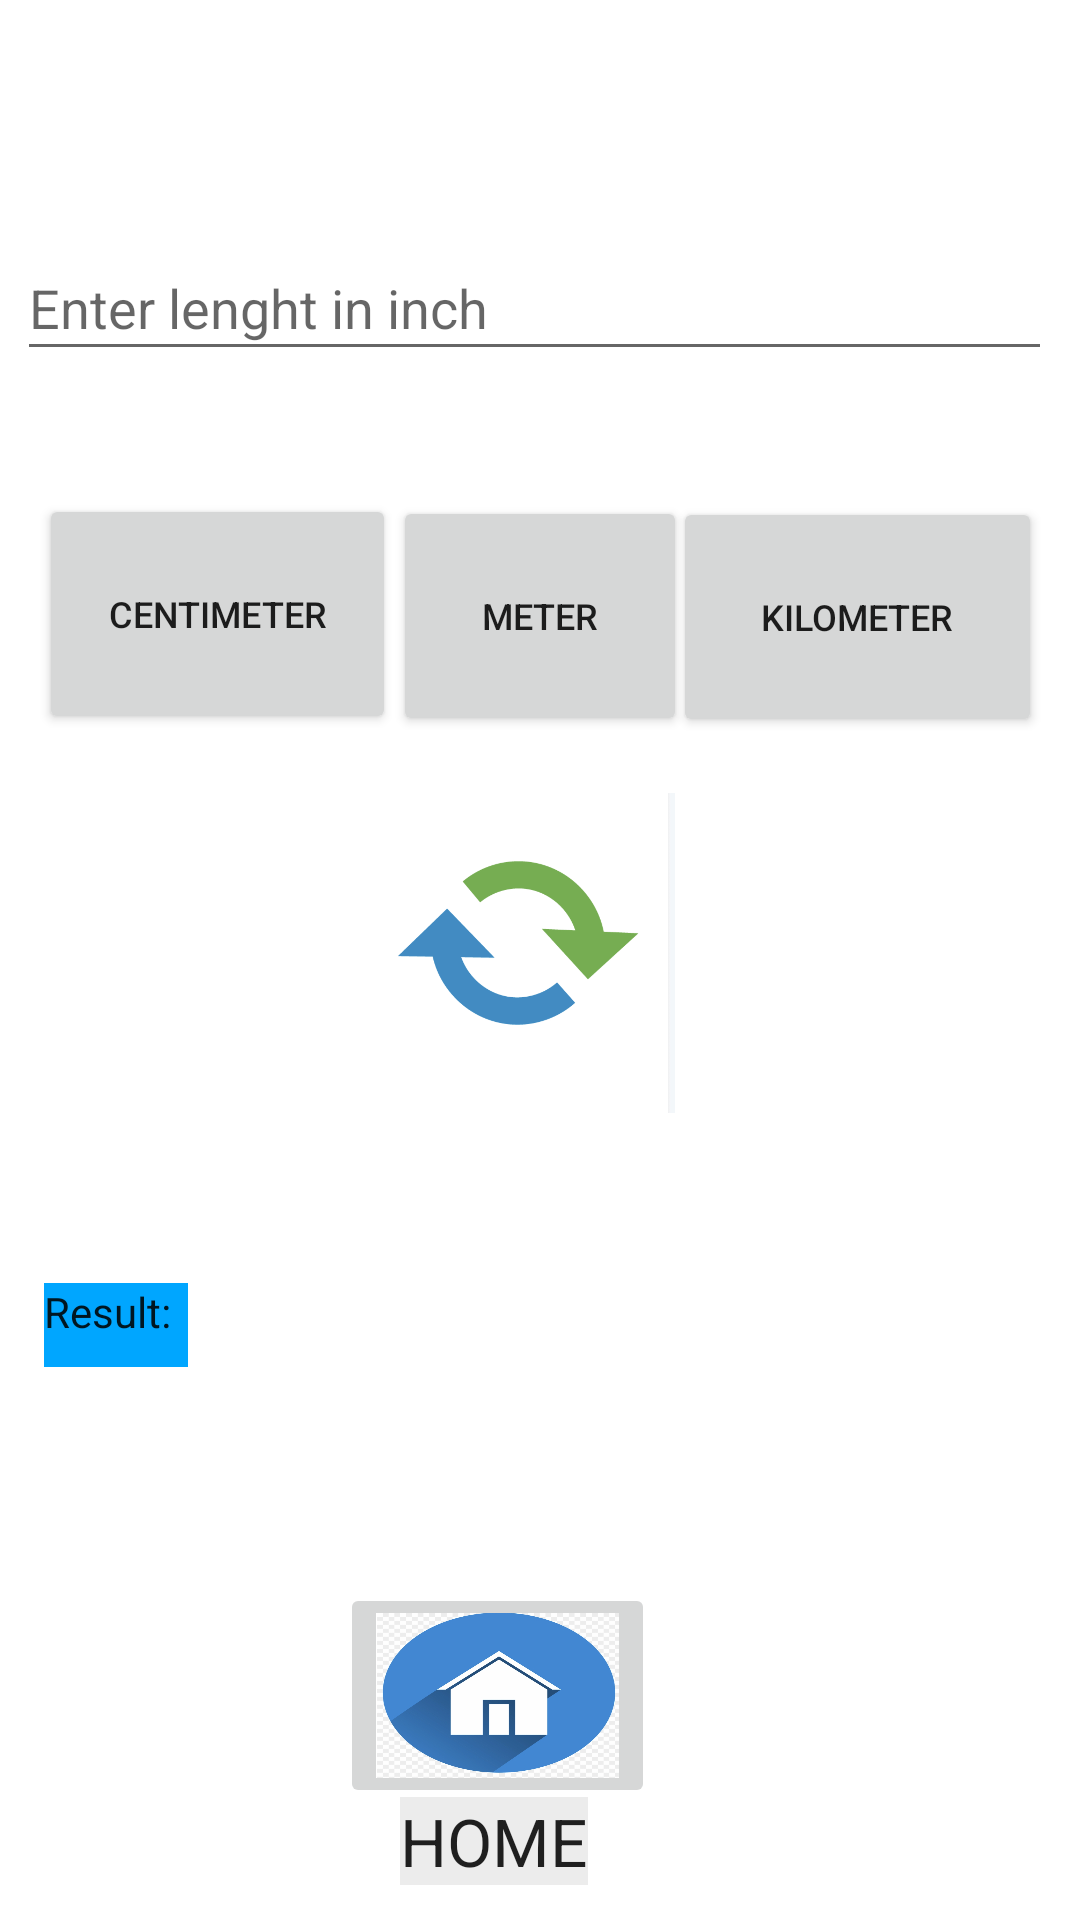

Icons on this 1080 x 1920 Android screen, each with its box as (left=x1, top=y1, right=x2, bottom=y2):
conversionicon: (left=398, top=861, right=638, bottom=1025)
